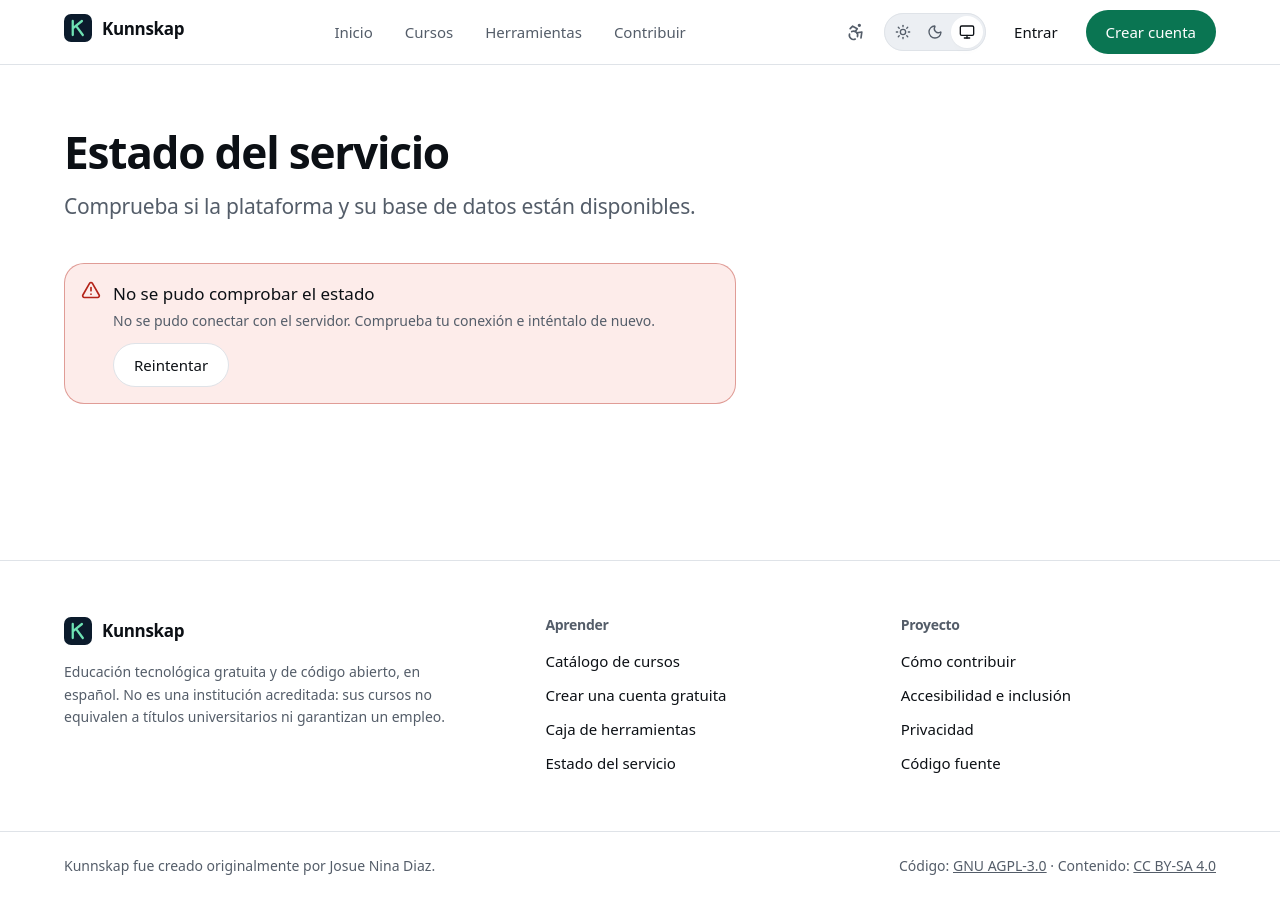
it: página de estado › muestra un error comprensible sin conexión y permite reintentar
Expected: the message shows "No se pudo conectar con el servidor", x1=113 y1=311 x2=655 y2=330
Click the button "Reintentar" at (171, 365), box x1=113 y1=343 x2=229 y2=387
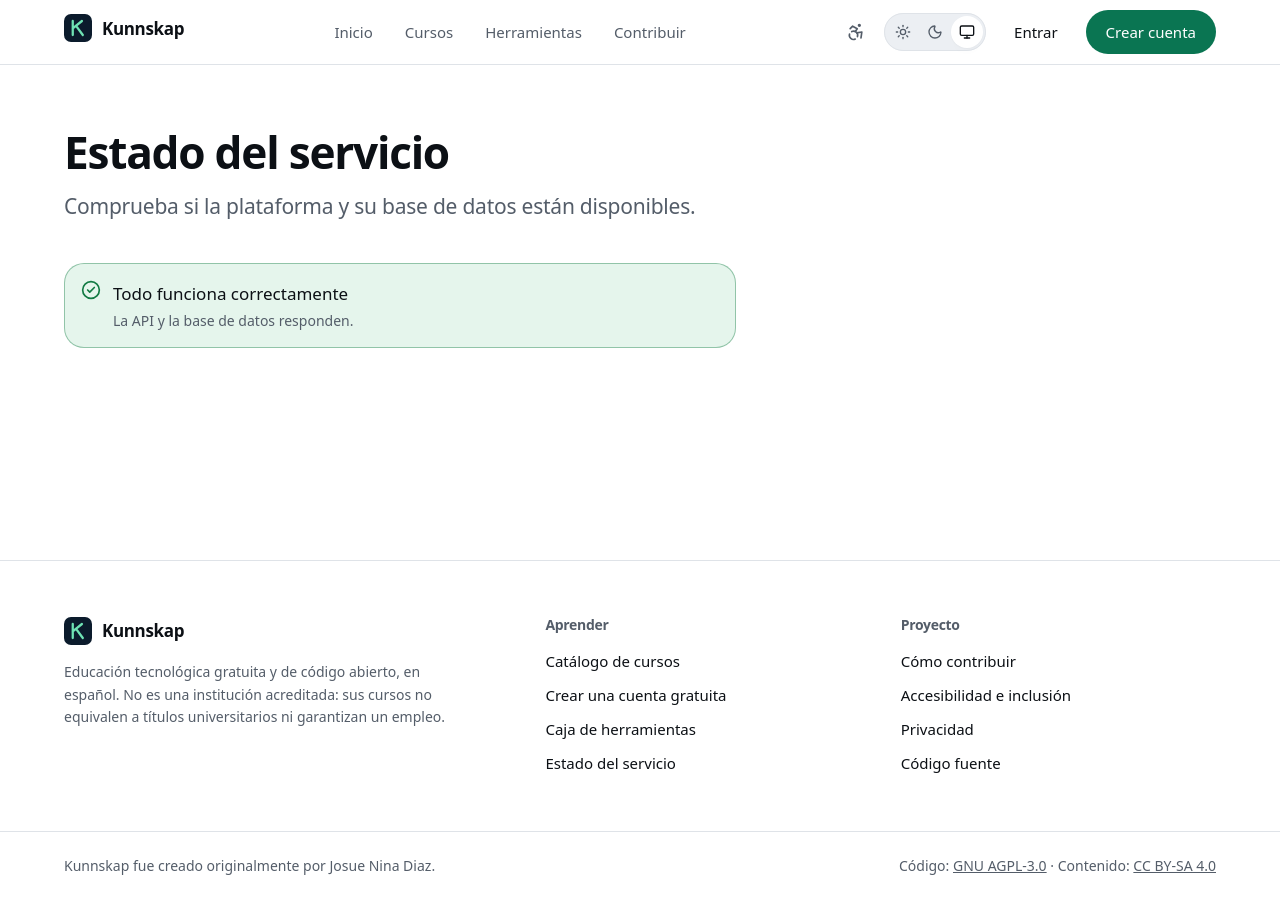
Now the text "Todo funciona correctamente" is shown, box x1=113 y1=280 x2=354 y2=307
